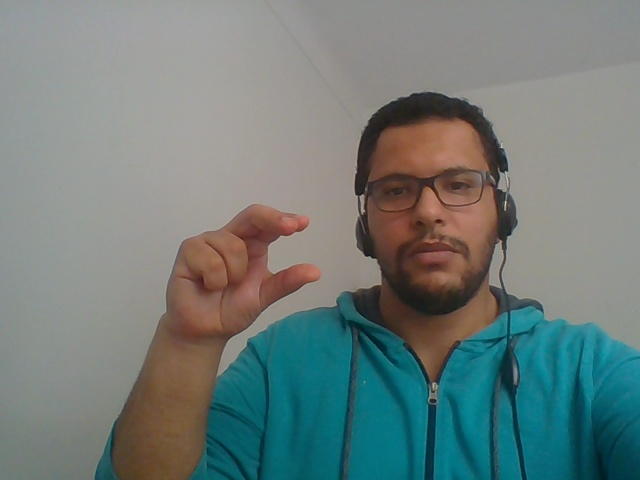no: (129, 184, 332, 363)
